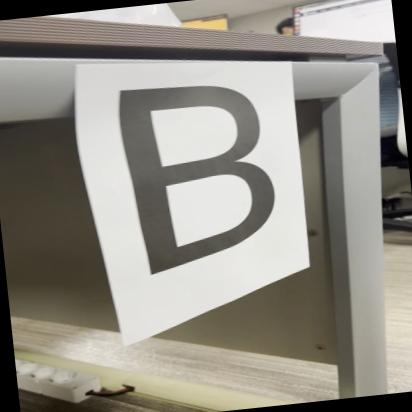seat: (90, 53, 300, 288)
